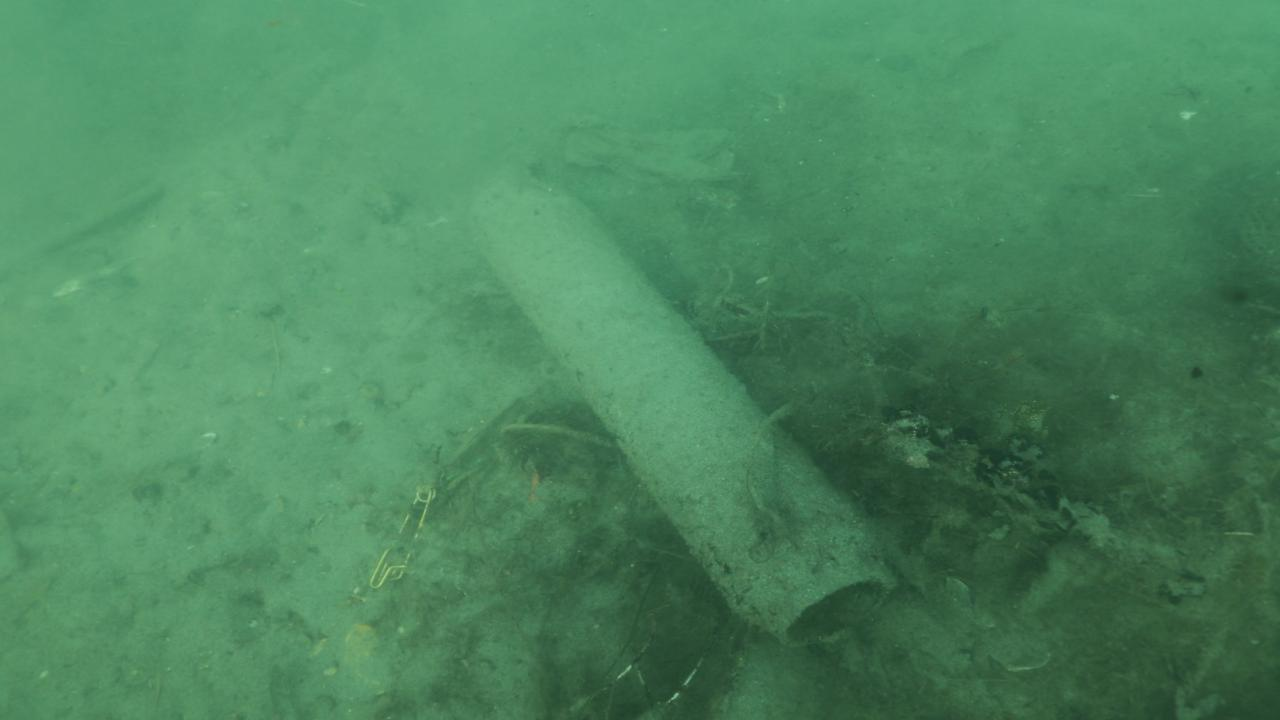eel fish trap: (460, 166, 900, 650)
